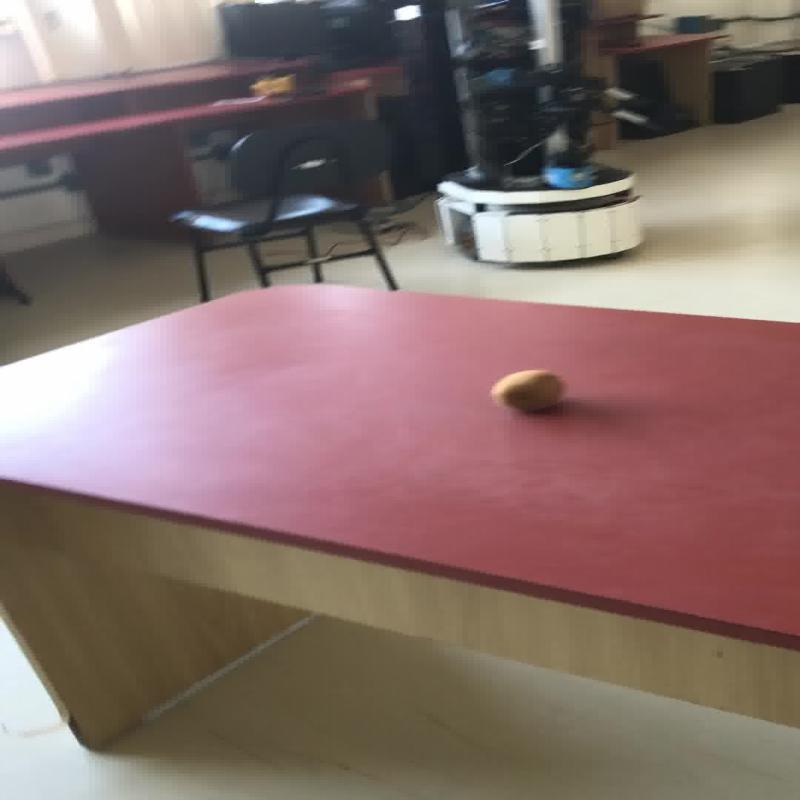kiwi: (488, 368, 562, 412)
